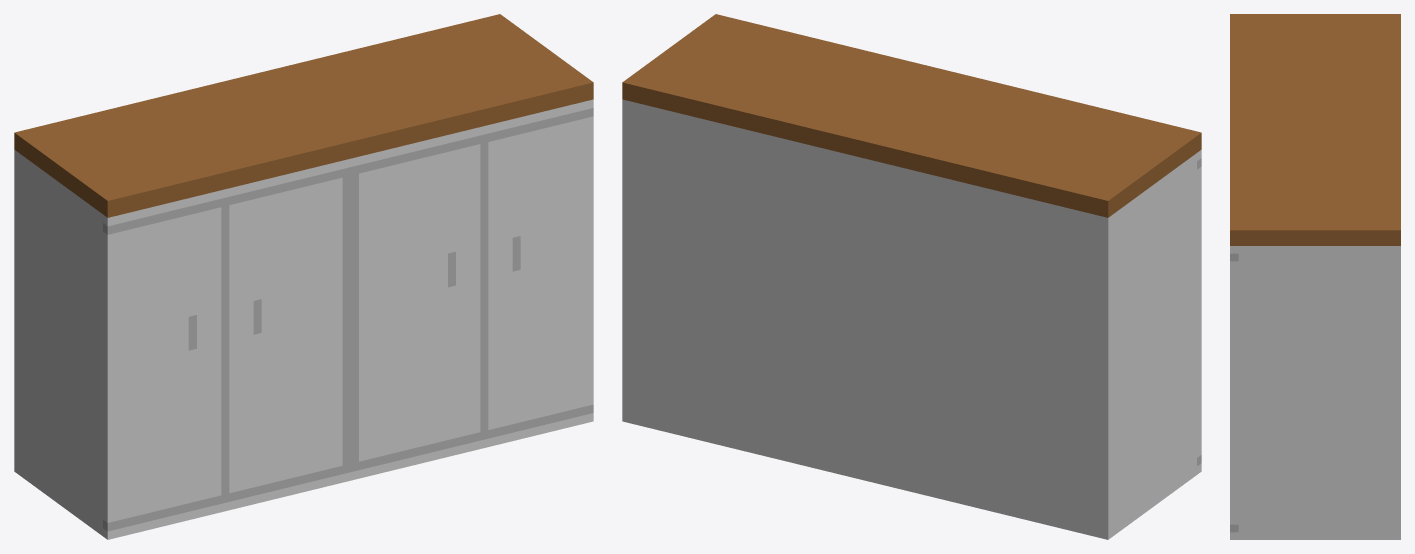
File: Locker.obj
3 views of the same model, side by side, from view 1: azimuth 30°, elevation 25°; view 2: azimuth 150°, elevation 25°; view 3: azimuth 270°, elevation 25° (orthographic). The views are drawn at different scales.
Visible parts, largest first — view 1: Locker; view 2: Locker; view 3: Locker.
Part boxes in pixels (left/top/right/bottom): Locker: left=14, top=14, right=593, bottom=539; Locker: left=622, top=14, right=1201, bottom=539; Locker: left=1230, top=14, right=1400, bottom=539.
Size of the model in its own units: 60 by 40 by 20.
Materials: 1 (1 with a texture image).
